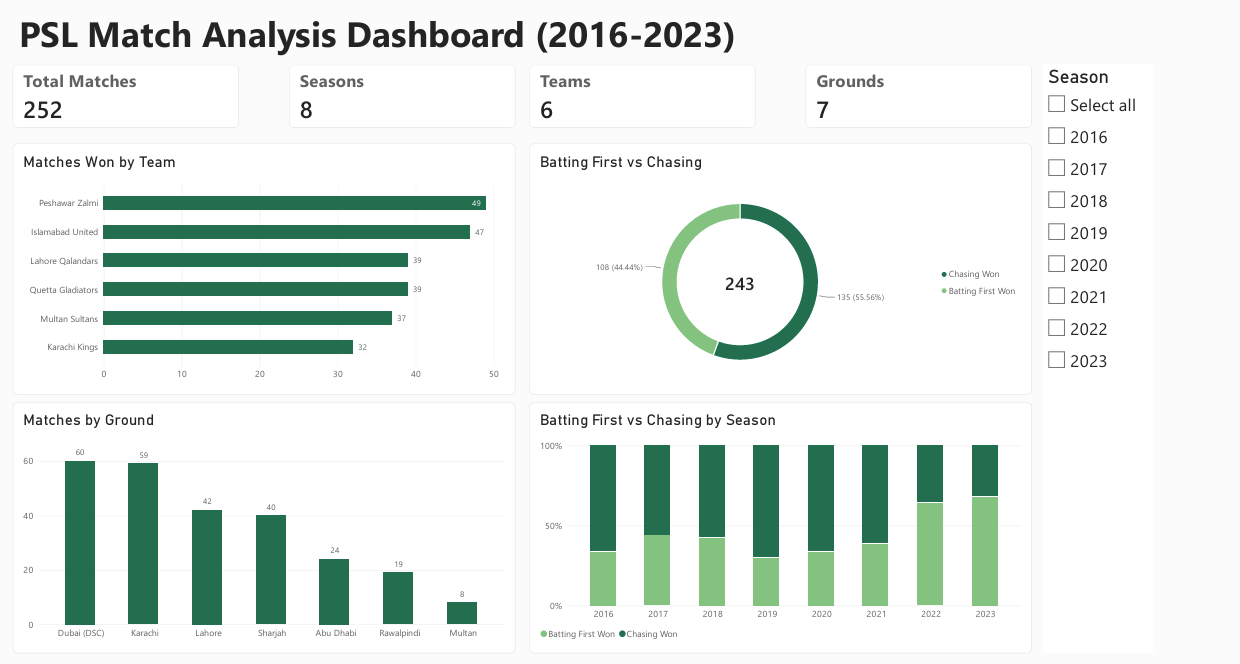

What the dashboard file says about the page in this screenshot:
{"tool":"powerbi","page":{"name":"Page 1","canvas":[2000,1100],"ordinal":0},"visuals":[{"type":"clusteredBarChart","title":"Matches Won by Team","fields":{"Category":["PSL_Data.Winner"],"Y":["CountNonNull(PSL_Data.Winner)"]},"box":[27.5,232.5,800,400],"z":0},{"type":"donutChart","title":"Batting First vs Chasing","fields":{"Category":["PSL_Data.Result Type"],"Y":["CountNonNull(PSL_Data.Result Type)"]},"box":[850,232.5,800,400],"z":1000},{"type":"clusteredColumnChart","title":"Matches by Ground","fields":{"Category":["PSL_Data.Ground"],"Y":["CountNonNull(PSL_Data.Ground)"]},"box":[27.5,645,800,400],"z":2000},{"type":"slicer","fields":{"Values":["PSL_Data.Season"]},"box":[1667.5,107.5,175,937.5],"z":3000},{"type":"cardVisual","fields":{"Data":["CountNonNull(PSL_Data.team_1)"]},"box":[27.5,107.5,360,100],"z":4000},{"type":"cardVisual","fields":{"Data":["Count(PSL_Data.Season)"]},"box":[467.5,107.5,360,100],"z":5000},{"type":"cardVisual","fields":{"Data":["Count(PSL_Data.Ground)"]},"box":[1290,107.5,360,100],"z":6000},{"type":"cardVisual","fields":{"Data":["PSL_Data.TotalTeams"]},"box":[850,107.5,360,100],"z":7000},{"type":"textbox","box":[37.5,20,1260,115],"z":8000},{"type":"hundredPercentStackedColumnChart","title":"Batting First vs Chasing by Season","fields":{"Category":["PSL_Data.Season"],"Series":["PSL_Data.Result Type"],"Y":["CountNonNull(PSL_Data.Result Type)"]},"box":[850,645,800,400],"z":9000}]}

Visuals, with their boxes in screenshot pixels (x1, y1, x2, y2), scaled from the page's 2000x1100 canvas onto the 1240x664 screenshot:
"Matches Won by Team" clusteredBarChart: x1=17 y1=140 x2=513 y2=382
"Batting First vs Chasing" donutChart: x1=527 y1=140 x2=1023 y2=382
"Matches by Ground" clusteredColumnChart: x1=17 y1=389 x2=513 y2=631
slicer - PSL_Data.Season: x1=1034 y1=65 x2=1142 y2=631
cardVisual - CountNonNull(PSL_Data.team_1): x1=17 y1=65 x2=240 y2=125
cardVisual - Count(PSL_Data.Season): x1=290 y1=65 x2=513 y2=125
cardVisual - Count(PSL_Data.Ground): x1=800 y1=65 x2=1023 y2=125
cardVisual - PSL_Data.TotalTeams: x1=527 y1=65 x2=750 y2=125
textbox: x1=23 y1=12 x2=804 y2=81
"Batting First vs Chasing by Season" hundredPercentStackedColumnChart: x1=527 y1=389 x2=1023 y2=631
